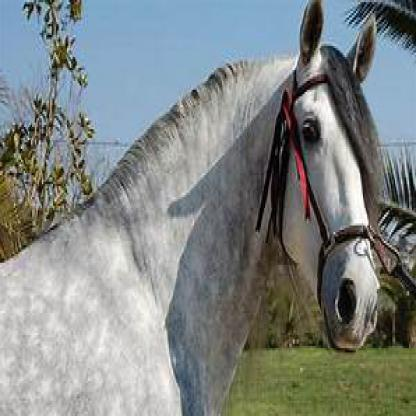horse: (0, 0, 388, 414)
